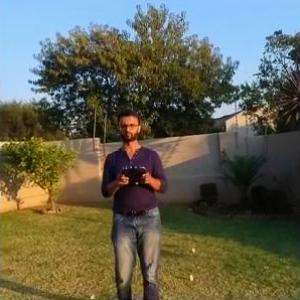follow: (97, 105, 174, 299)
